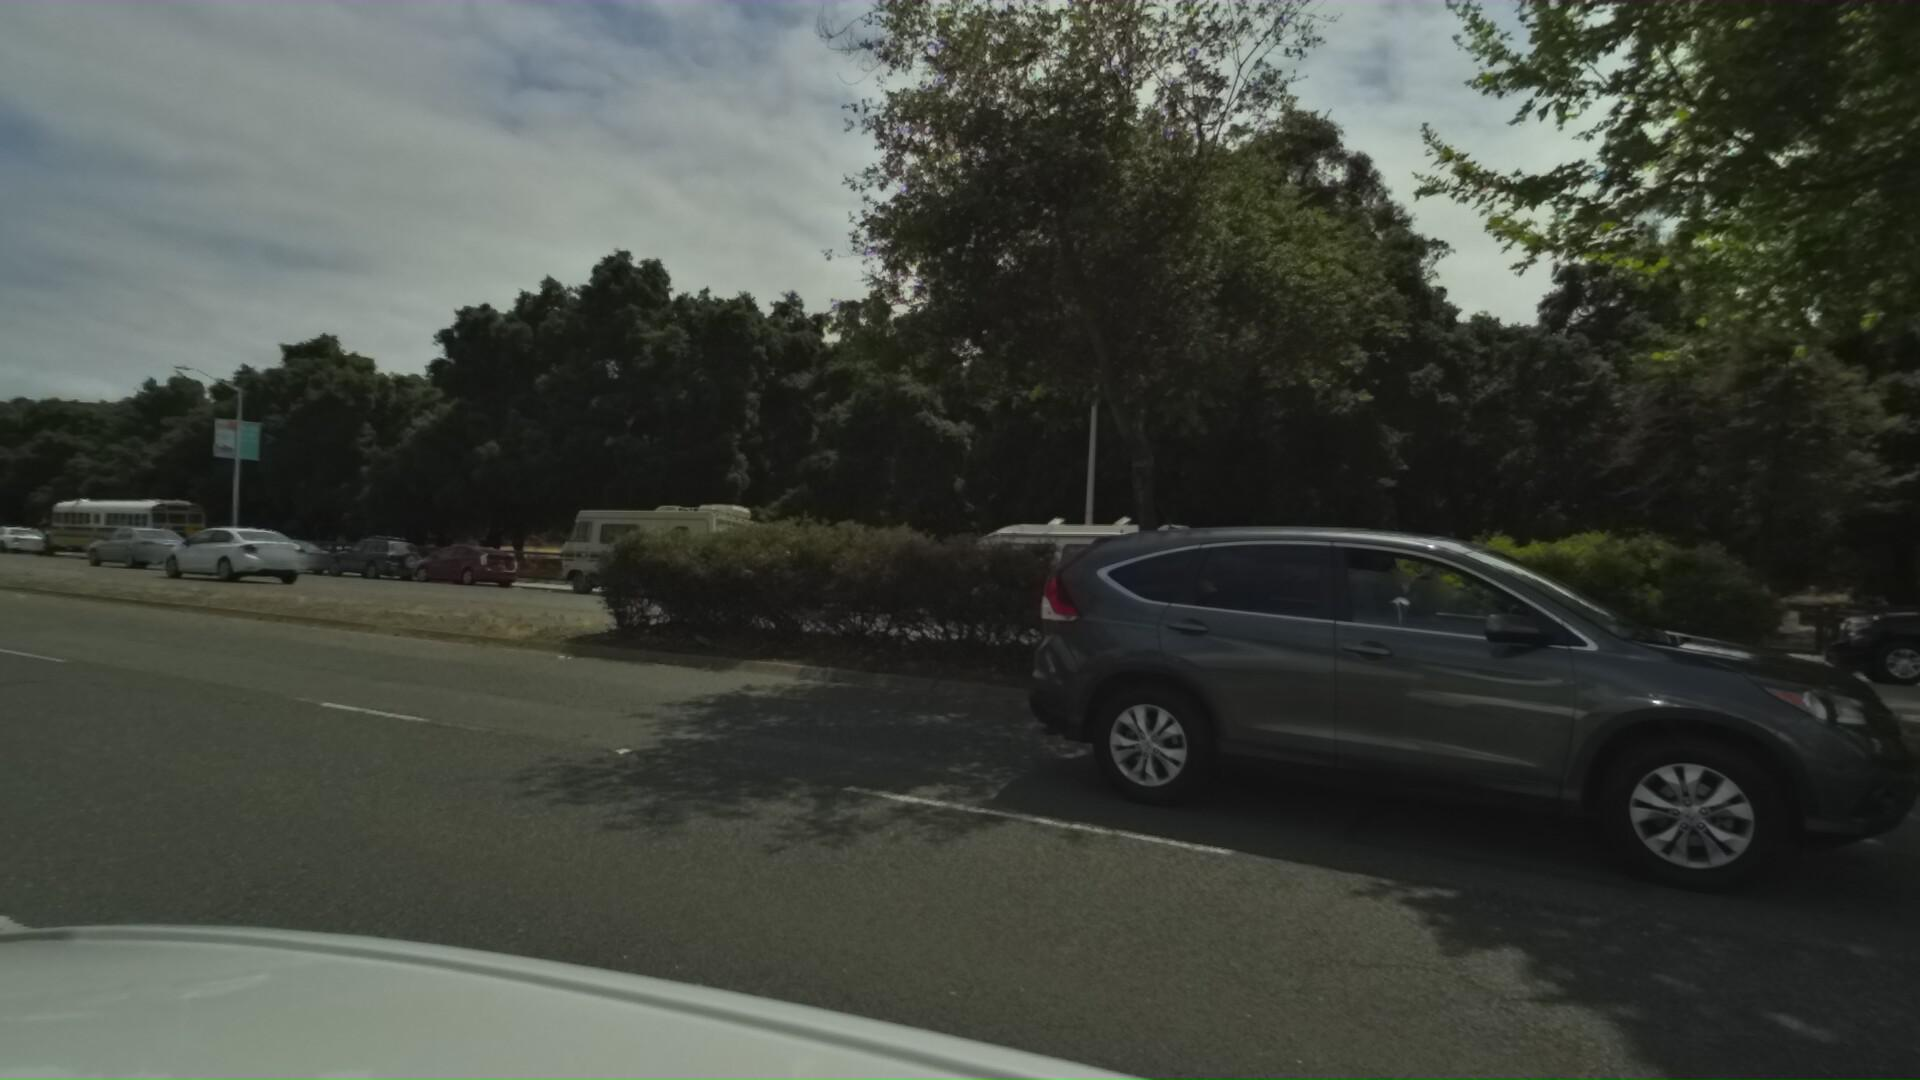bus: (26, 496, 218, 568)
car: (1048, 508, 1920, 975), (1760, 568, 1920, 716), (137, 524, 305, 585), (389, 542, 520, 591), (306, 535, 427, 582), (63, 524, 179, 568), (218, 535, 334, 576), (0, 526, 54, 560)
other_vehicle: (895, 506, 1187, 637), (534, 498, 760, 601)
